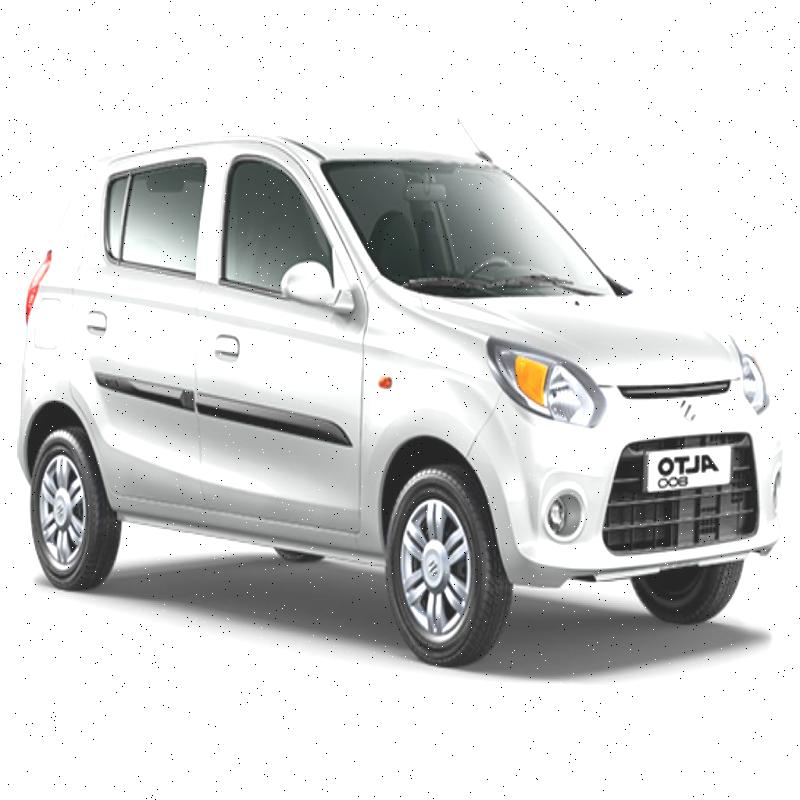car: (0, 84, 786, 673)
